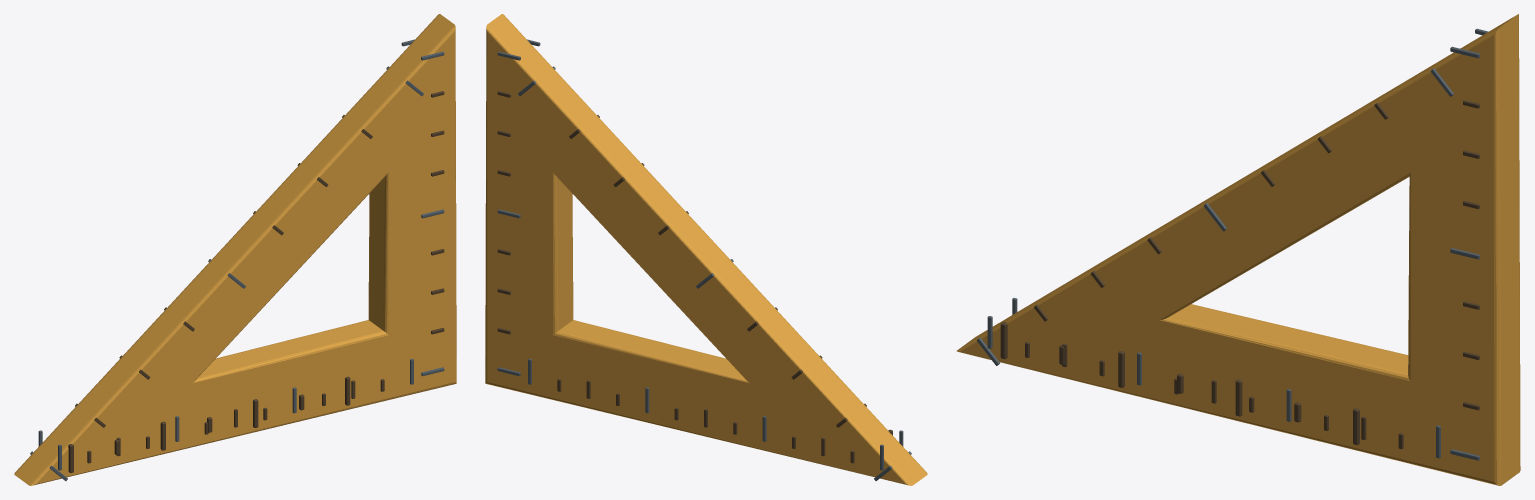
The model's file is source.glb.
The picture shows the model from 3 angles, left to right: view 1: azimuth 30°, elevation 25°; view 2: azimuth 150°, elevation 25°; view 3: azimuth 330°, elevation 25°; orthographic projection. The views are drawn at different scales.
Parts seen in each view (by area): view 1: brass, shadow, steelInset; view 2: brass, shadow, steelInset; view 3: brass, shadow, steelInset.
Part boxes in pixels (x1,y1,x2,y2): brass: (14, 14, 456, 485); shadow: (68, 91, 444, 472); steelInset: (30, 39, 444, 480); brass: (485, 14, 927, 485); shadow: (497, 91, 892, 463); steelInset: (497, 39, 911, 480); brass: (957, 14, 1520, 485); shadow: (1000, 100, 1479, 449); steelInset: (976, 28, 1488, 460).
Bounding box in the file's own units: 0.3058 × 0.2457 × 0.0264.
